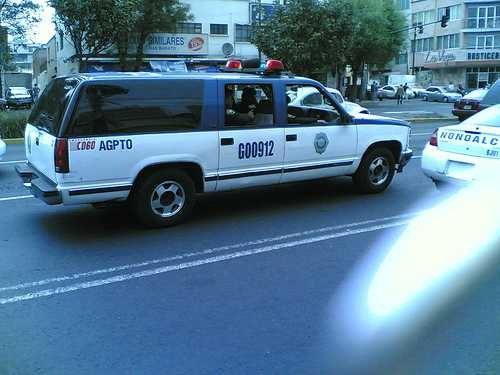Police Van: (17, 49, 410, 199)
